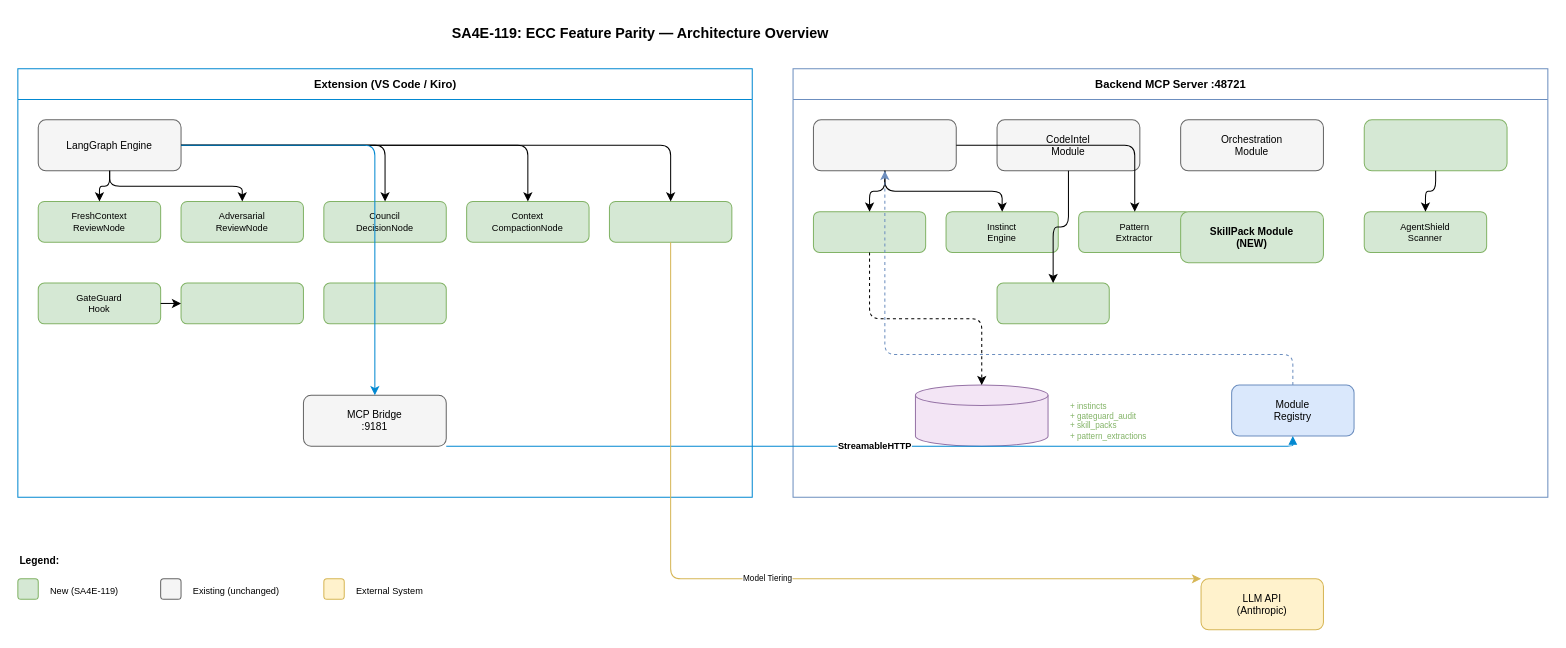
The diagram is 1566 pixels wide and 648 high, and some of its shapes have lost their labels. The shapes that lost their labels are listed below. From the top down, each one's box as (x1, y1, x2, y2) in pixels, then its label:
(812, 119, 956, 171): Memory Module (KB)
(1363, 119, 1507, 171): Security Module (NEW)
(608, 200, 732, 242): ModelTier RouterNode
(812, 211, 926, 252): Confidence Scorer
(180, 282, 303, 324): Denylist Manager
(323, 282, 446, 324): Plan Canvas Webview Panel
(996, 282, 1109, 324): Onboarding Skill
(914, 384, 1048, 446): SQLite DB (knowledge.db)
